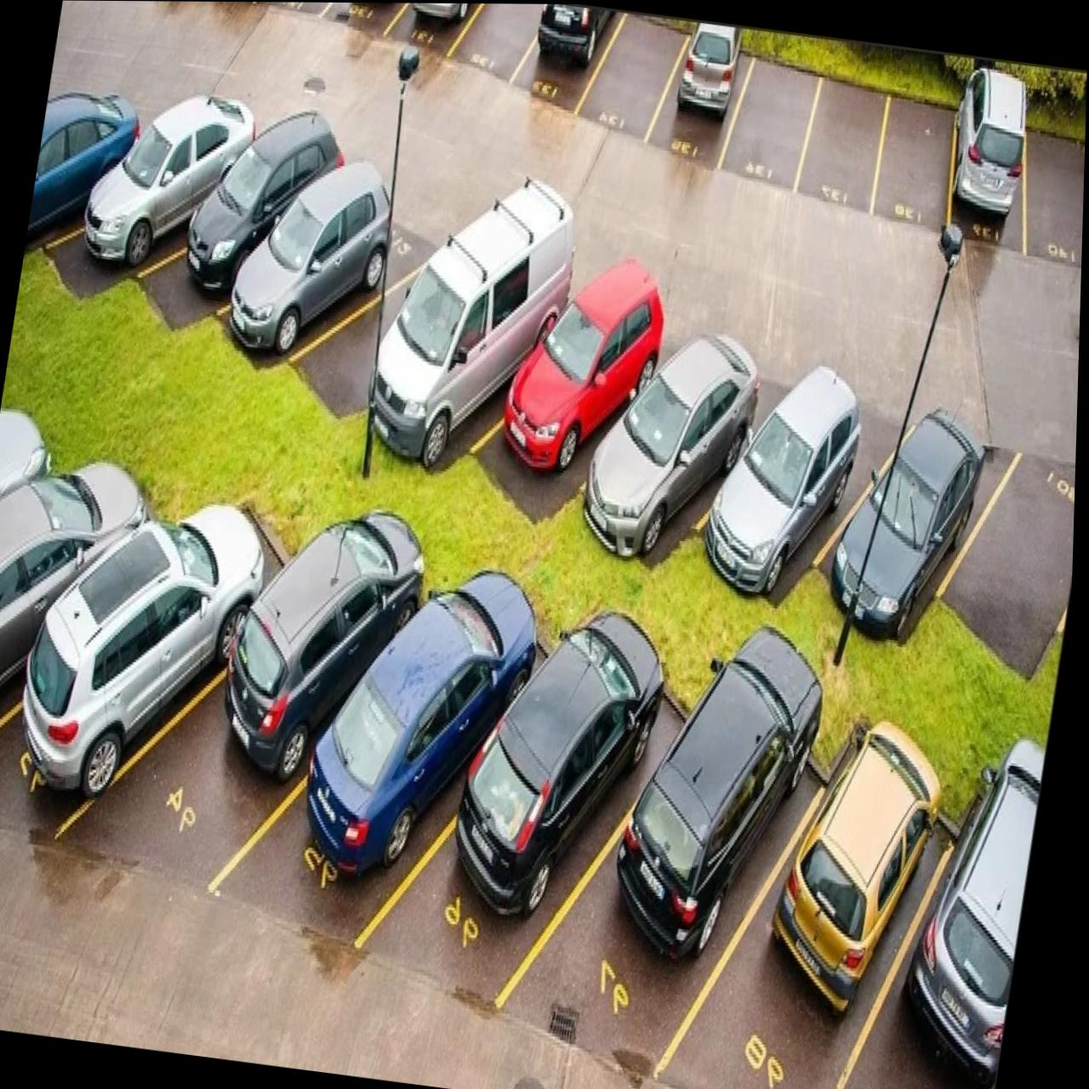cars: (559, 636, 824, 1057), (157, 479, 421, 897), (0, 477, 273, 862), (417, 593, 679, 993), (279, 540, 541, 940), (736, 717, 961, 1089), (0, 414, 157, 784), (147, 87, 344, 367), (575, 290, 777, 557), (867, 784, 1040, 1089), (377, 202, 573, 468), (222, 155, 397, 398), (76, 83, 257, 313), (818, 378, 996, 609), (703, 361, 884, 580), (491, 281, 655, 512), (24, 34, 145, 267), (943, 76, 1040, 277), (646, 20, 745, 176), (524, 4, 619, 115)
empty: (317, 203, 478, 452), (940, 414, 1077, 651), (717, 46, 826, 211), (861, 87, 961, 251), (576, 6, 690, 143), (1006, 116, 1086, 279), (804, 71, 894, 207), (461, 3, 548, 79)
